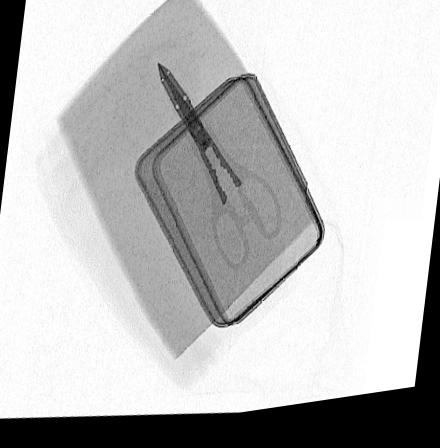Scissors: (153, 60, 284, 280)
